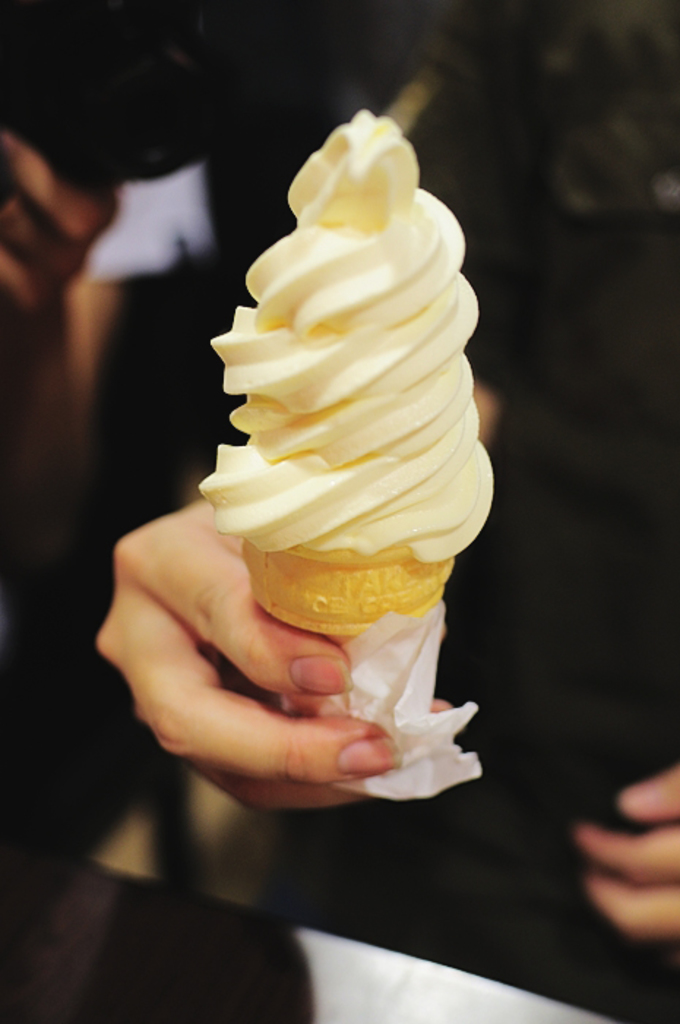Human_hand: (91, 489, 449, 819), (578, 768, 679, 939)
